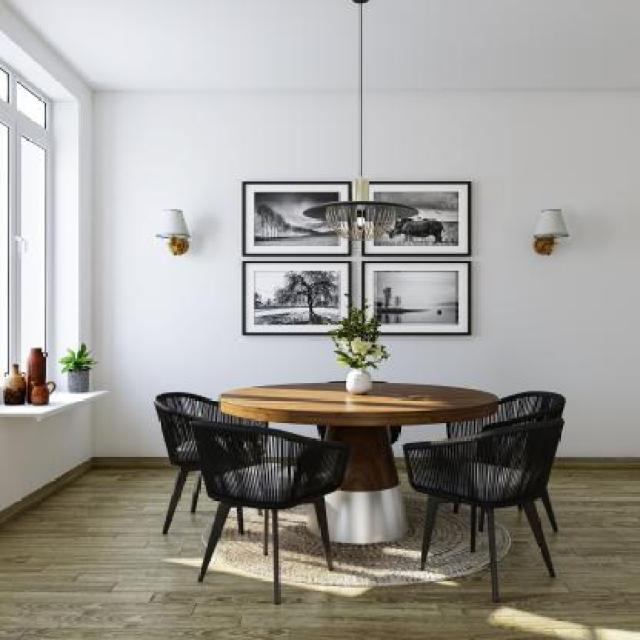floor: (0, 455, 640, 640), (195, 504, 328, 613), (167, 473, 224, 585)
